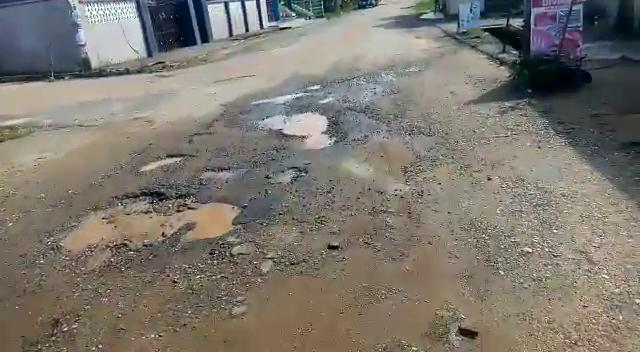pothole: (42, 187, 248, 254), (246, 107, 343, 144), (139, 151, 194, 174), (198, 165, 240, 181)
